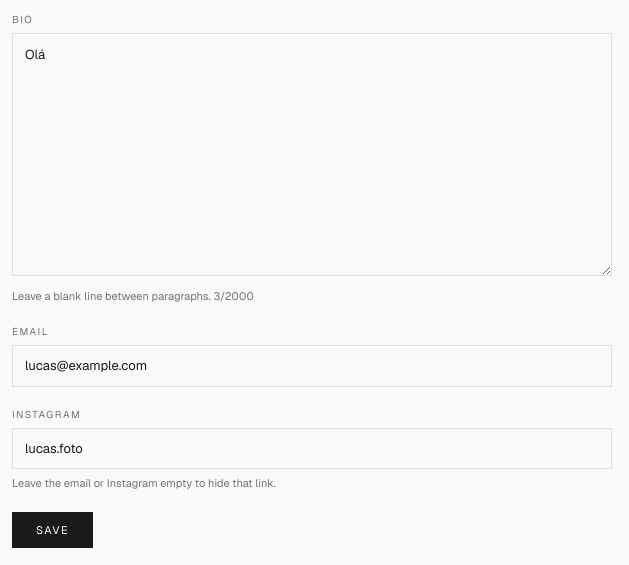
ProfileForm › clears "Saved." once a field changes again
Click the button "Save" at (53, 530), box [12,512,93,548]
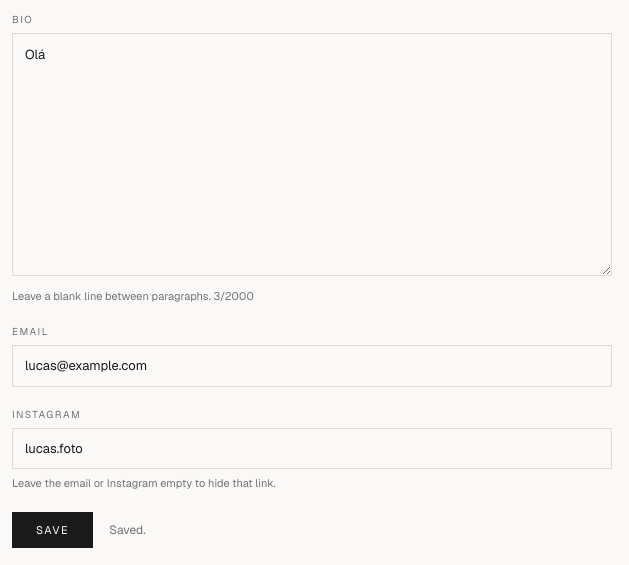
Check: the text "Saved." is shown, box [109,522,146,538]
Replace the text in the text box labelled "Bio" with "Olá!" at (312, 154), box [12,33,612,276]
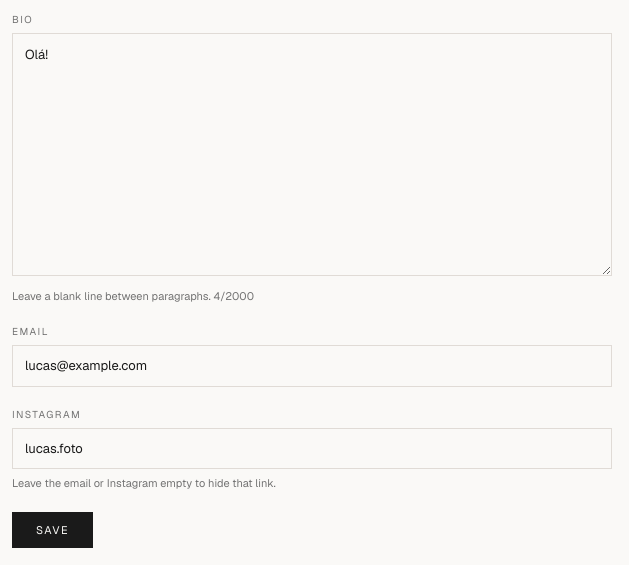
Check: the text "Saved." is gone
